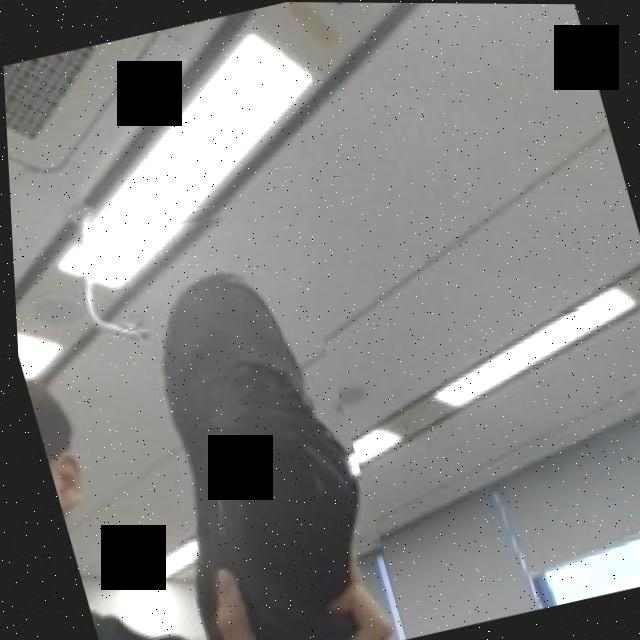shoe: (100, 195, 400, 640)
